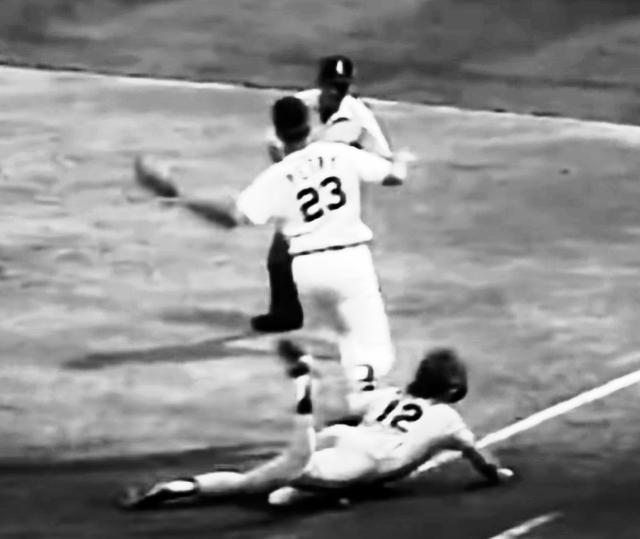jatuh: (108, 335, 526, 523)
